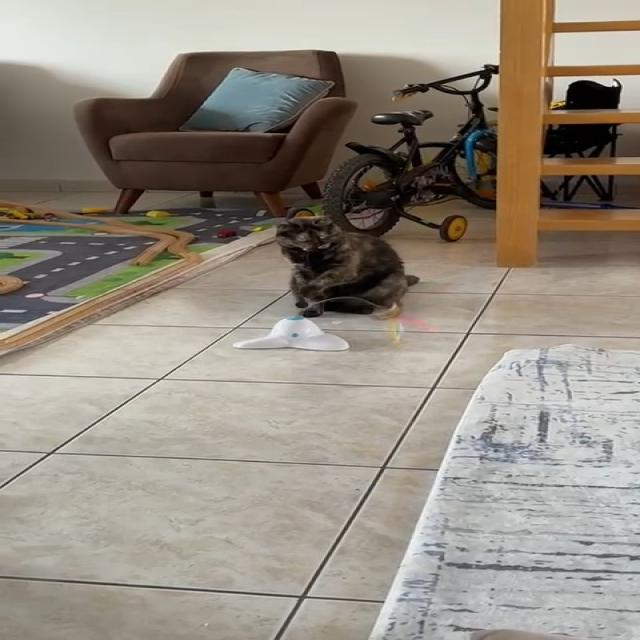authorized: (273, 214, 420, 320)
